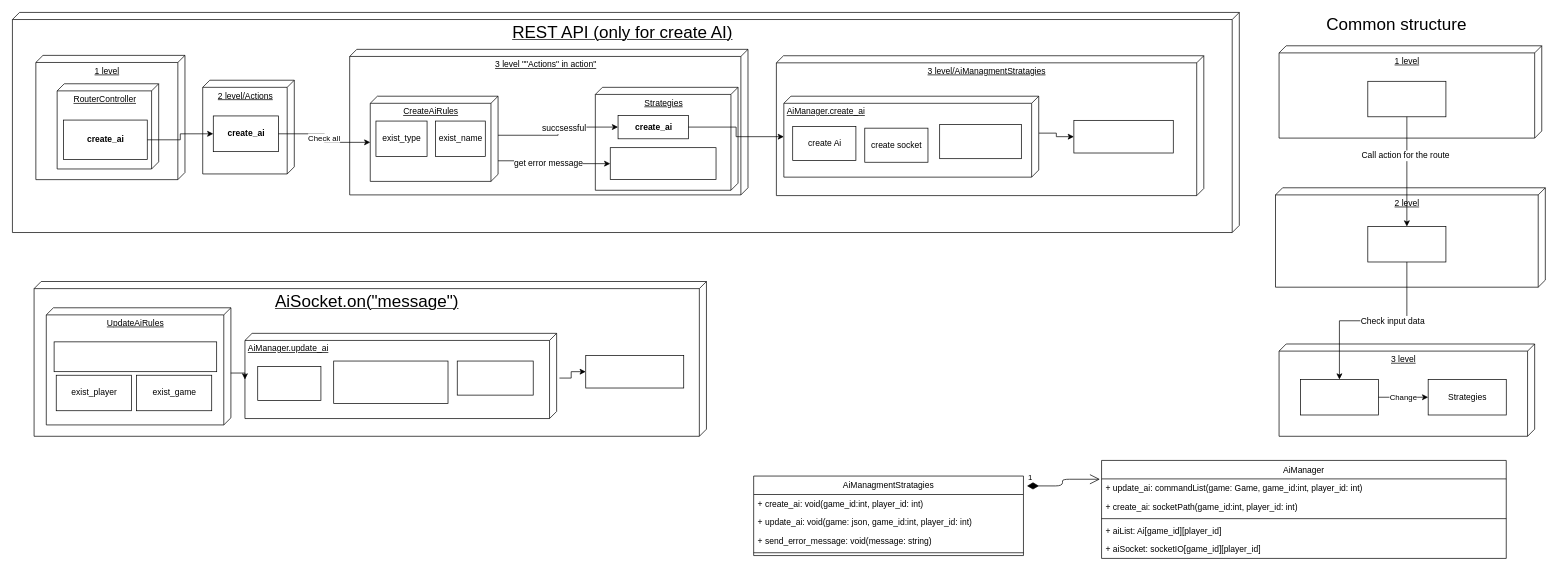
The diagram is 1558 pixels wide and 573 high, and some of its shapes have lost their labels. The centre of each missing label's shape, as x and y in pixels:
Actions: (1406,244)
find Ai: (289,383)
posted_game_correspond_ai_game: (135,356)
return commands: (495,377)
return socketPath: (980,141)
RouteController: (1406,99)
Rules: (1339,397)
send commandList: (634,371)
send socketPath: (1123,136)
send_error_message: (663,163)
update and generate commands: (390,382)
